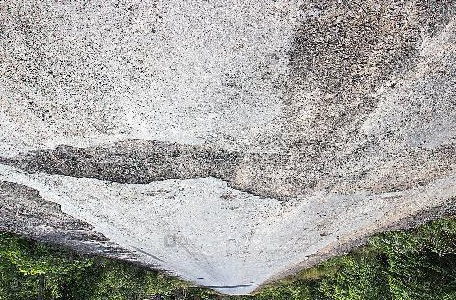pothole: (15, 140, 211, 185), (218, 144, 297, 203)
